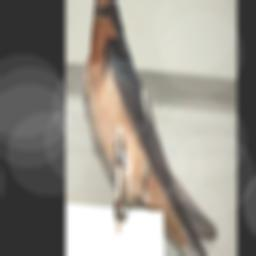Swallow: (88, 0, 233, 256)
